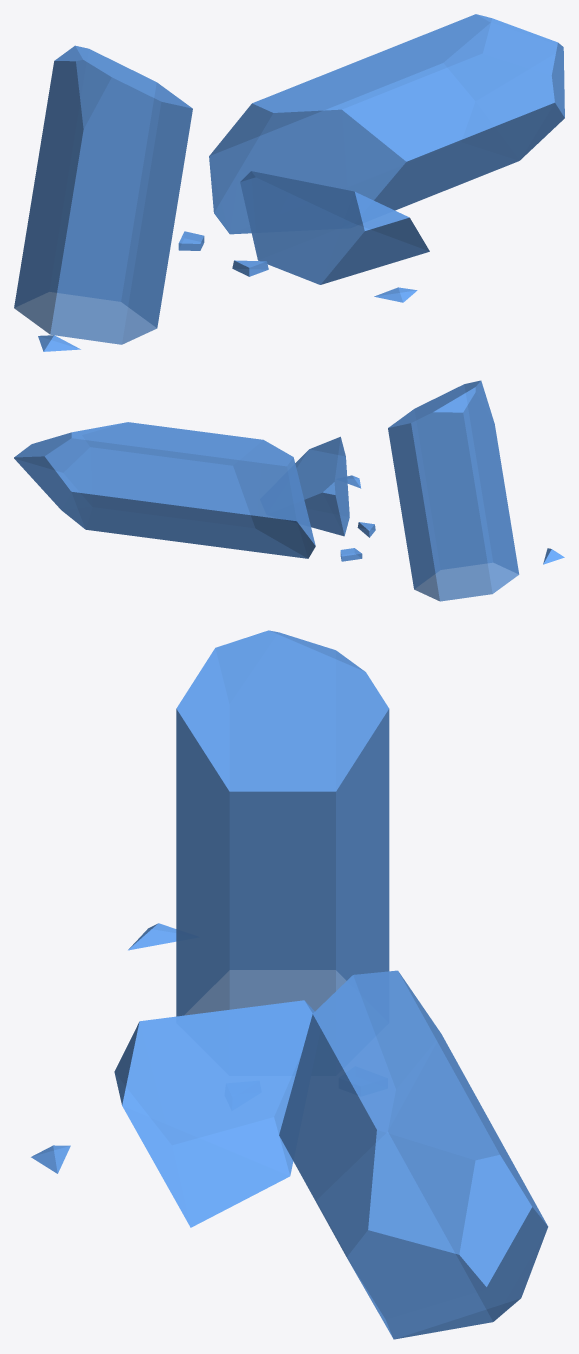
The model's file is Crystal_crk_m_02.fbx.
3 views of the same model, one above another, from view 1: azimuth 30°, elevation 25°; view 2: azimuth 150°, elevation 25°; view 3: azimuth 270°, elevation 25° (orthographic). The views are drawn at different scales.
Parts seen in each view (by area): view 1: Crystal_crk_m_02; view 2: Crystal_crk_m_02; view 3: Crystal_crk_m_02.
Boxes of the visible parts, <box> form: Crystal_crk_m_02: <box>14,14,564,351</box>; Crystal_crk_m_02: <box>14,380,564,601</box>; Crystal_crk_m_02: <box>31,630,548,1339</box>.
Bounding box in the file's own units: 221 × 91.03 × 106.
